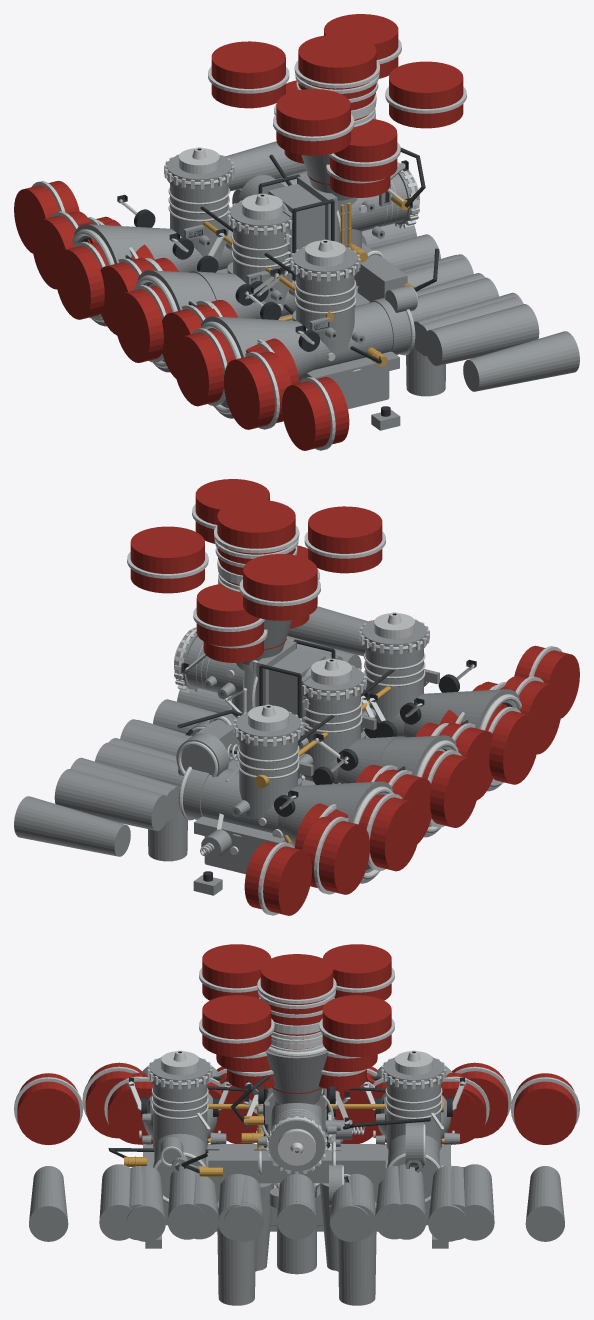
The model's file is carburetor_models.dae.
The picture shows the model from 3 angles, top to bottom: view 1: azimuth 30°, elevation 25°; view 2: azimuth 150°, elevation 25°; view 3: azimuth 270°, elevation 25°; orthographic projection. The views are drawn at different scales.
Visible parts, largest first — view 1: ure_user_carb_triple_02_racing_velocitystack_sidedraft, ure_filter_quad_weber_48_ida_40, ure_user_carb_triple_01_street_bigbody_sidedraft, ure_filter_triple_weber_45_dcoe_36, ure_filter_quad_weber_45_dcoe_38, ure_filter_six_weber_40_dcoe_32, ure_tunnel_six_weber_40_dcoe_32, ure_user_carb_triple_03_touring_diaphragm_sidedraft, ure_tunnel_quad_weber_45_dcoe_38, ure_filter_holley_4500_1050, ure_filter_twin_weber_38_dgas, ure_user_carb_02_big_bell_racing_downdraft (+14 smaller); view 2: ure_user_carb_triple_02_racing_velocitystack_sidedraft, ure_filter_quad_weber_48_ida_40, ure_user_carb_triple_01_street_bigbody_sidedraft, ure_filter_triple_weber_45_dcoe_36, ure_tunnel_six_weber_40_dcoe_32, ure_filter_six_weber_40_dcoe_32, ure_filter_quad_weber_45_dcoe_38, ure_user_carb_triple_03_touring_diaphragm_sidedraft, ure_tunnel_quad_weber_45_dcoe_38, ure_filter_holley_4500_1050, ure_user_carb_02_big_bell_racing_downdraft, ure_filter_twin_weber_38_dgas (+12 smaller); view 3: ure_filter_quad_weber_48_ida_40, ure_filter_six_weber_40_dcoe_32, ure_tunnel_six_weber_40_dcoe_32, ure_user_carb_triple_02_racing_velocitystack_sidedraft, ure_user_carb_triple_03_touring_diaphragm_sidedraft, ure_user_carb_triple_01_street_bigbody_sidedraft, ure_user_carb_02_big_bell_racing_downdraft, ure_tunnel_triple_weber_45_dcoe_36, ure_tunnel_quad_weber_48_ida_40, ure_tunnel_quad_weber_45_dcoe_38, ure_filter_quad_weber_45_dcoe_38, ure_filter_holley_4500_1050 (+15 smaller).
Part boxes in pixels (<box>): ure_user_carb_triple_02_racing_velocitystack_sidedraft: <box>72,148,389,418</box>; ure_filter_quad_weber_48_ida_40: <box>208,14,466,155</box>; ure_user_carb_triple_01_street_bigbody_sidedraft: <box>166,147,415,430</box>; ure_filter_triple_weber_45_dcoe_36: <box>55,241,234,406</box>; ure_filter_quad_weber_45_dcoe_38: <box>32,211,291,429</box>; ure_filter_six_weber_40_dcoe_32: <box>14,180,349,450</box>; ure_tunnel_six_weber_40_dcoe_32: <box>225,141,579,391</box>; ure_user_carb_triple_03_touring_diaphragm_sidedraft: <box>117,148,439,331</box>; ure_tunnel_quad_weber_45_dcoe_38: <box>232,171,539,365</box>; ure_filter_holley_4500_1050: <box>294,34,379,98</box>; ure_filter_twin_weber_38_dgas: <box>274,80,400,181</box>; ure_user_carb_02_big_bell_racing_downdraft: <box>301,119,419,231</box>; ure_user_carb_triple_02_racing_velocitystack_sidedraft: <box>200,613,521,883</box>; ure_filter_quad_weber_48_ida_40: <box>127,479,385,620</box>; ure_user_carb_triple_01_street_bigbody_sidedraft: <box>178,612,476,895</box>; ure_filter_triple_weber_45_dcoe_36: <box>359,706,538,871</box>; ure_tunnel_six_weber_40_dcoe_32: <box>14,606,368,856</box>; ure_filter_six_weber_40_dcoe_32: <box>244,645,579,915</box>; ure_filter_quad_weber_45_dcoe_38: <box>302,676,561,894</box>; ure_user_carb_triple_03_touring_diaphragm_sidedraft: <box>176,613,439,825</box>; ure_tunnel_quad_weber_45_dcoe_38: <box>54,636,361,830</box>; ure_filter_holley_4500_1050: <box>214,499,299,563</box>; ure_user_carb_02_big_bell_racing_downdraft: <box>174,584,292,760</box>; ure_filter_twin_weber_38_dgas: <box>193,545,319,646</box>; ure_filter_quad_weber_48_ida_40: <box>199,944,394,1057</box>; ure_filter_six_weber_40_dcoe_32: <box>14,1073,579,1144</box>; ure_tunnel_six_weber_40_dcoe_32: <box>29,1166,564,1241</box>; ure_user_carb_triple_02_racing_velocitystack_sidedraft: <box>141,1051,464,1231</box>; ure_user_carb_triple_03_touring_diaphragm_sidedraft: <box>148,1052,465,1225</box>; ure_user_carb_triple_01_street_bigbody_sidedraft: <box>108,1050,459,1248</box>; ure_user_carb_02_big_bell_racing_downdraft: <box>243,1046,365,1176</box>; ure_tunnel_triple_weber_45_dcoe_36: <box>167,1164,426,1239</box>; ure_tunnel_quad_weber_48_ida_40: <box>217,1146,376,1305</box>; ure_tunnel_quad_weber_45_dcoe_38: <box>99,1164,494,1240</box>; ure_filter_quad_weber_45_dcoe_38: <box>82,1062,511,1138</box>; ure_filter_holley_4500_1050: <box>257,954,336,1014</box>.
Size of the model in its own units: 0.3947 by 0.6873 by 0.4064.
